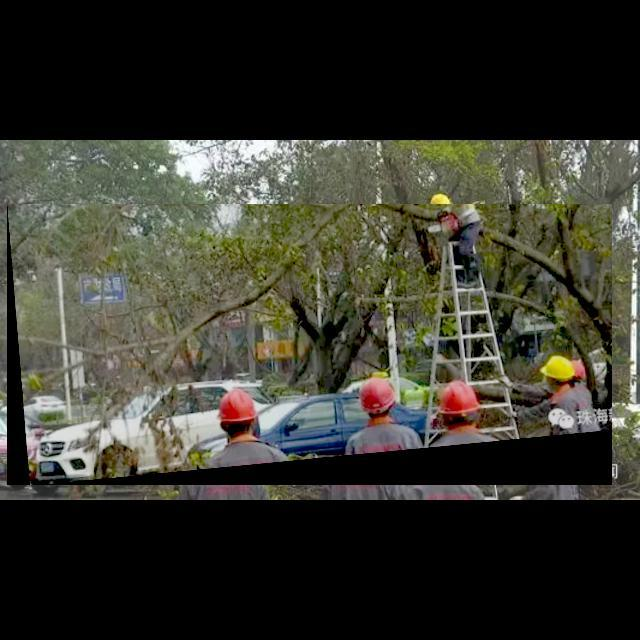fallen_tree: (7, 204, 613, 486)
